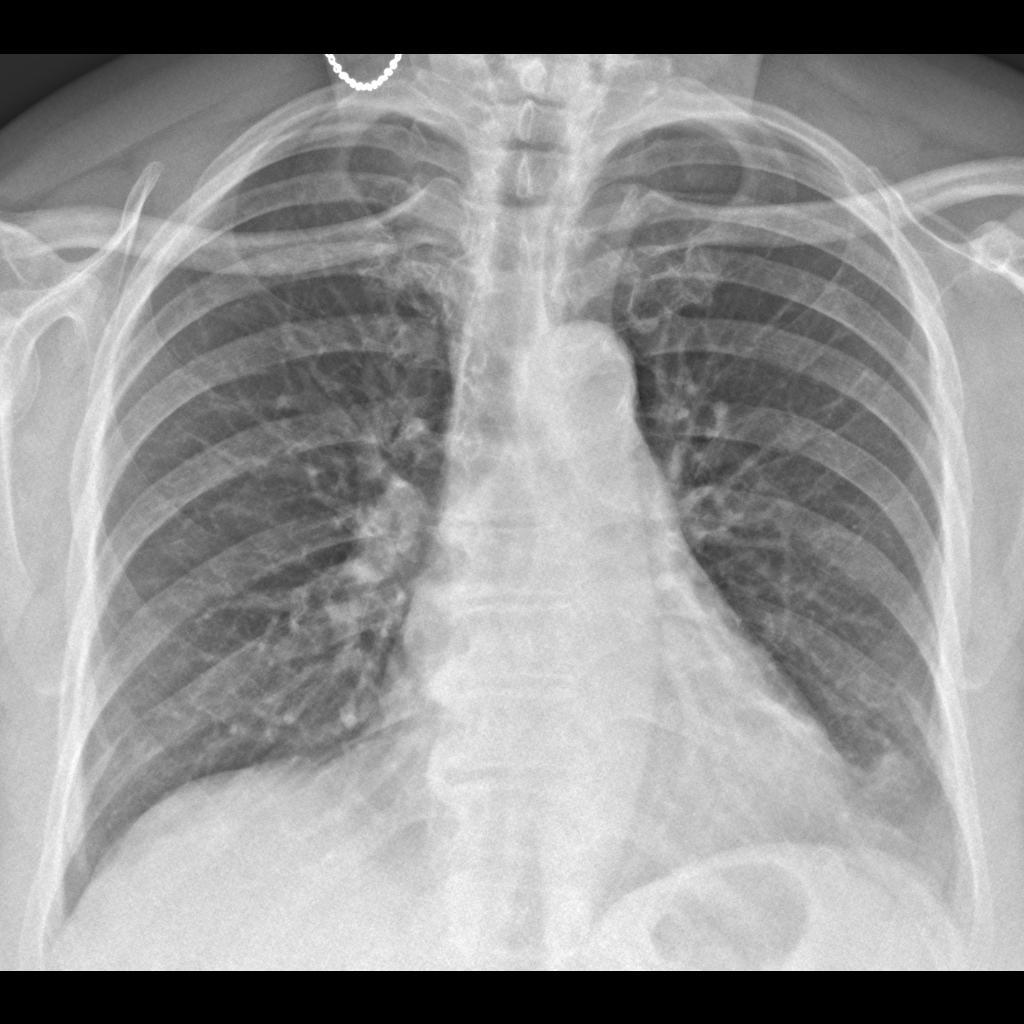Nodule: (867, 749, 930, 814)
